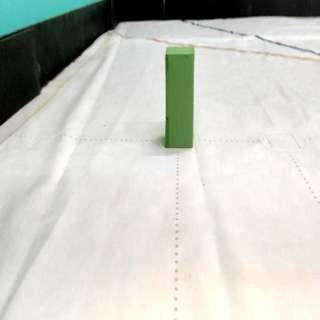greenbox: (163, 43, 196, 149)
